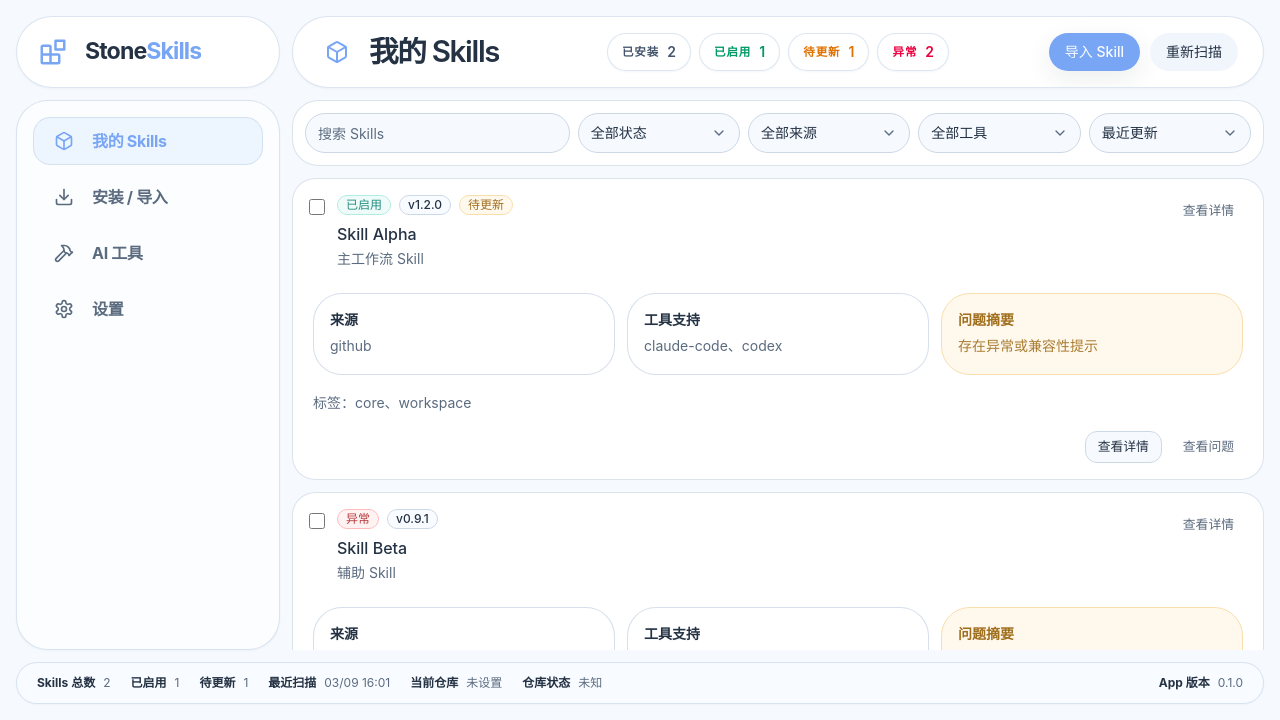
Test: SkillsPage › 点击卡片主体会打开详情抽屉
Click the button with test id "skill-card-trigger-skill-alpha" at (778, 354), box [309,289,1247,419]
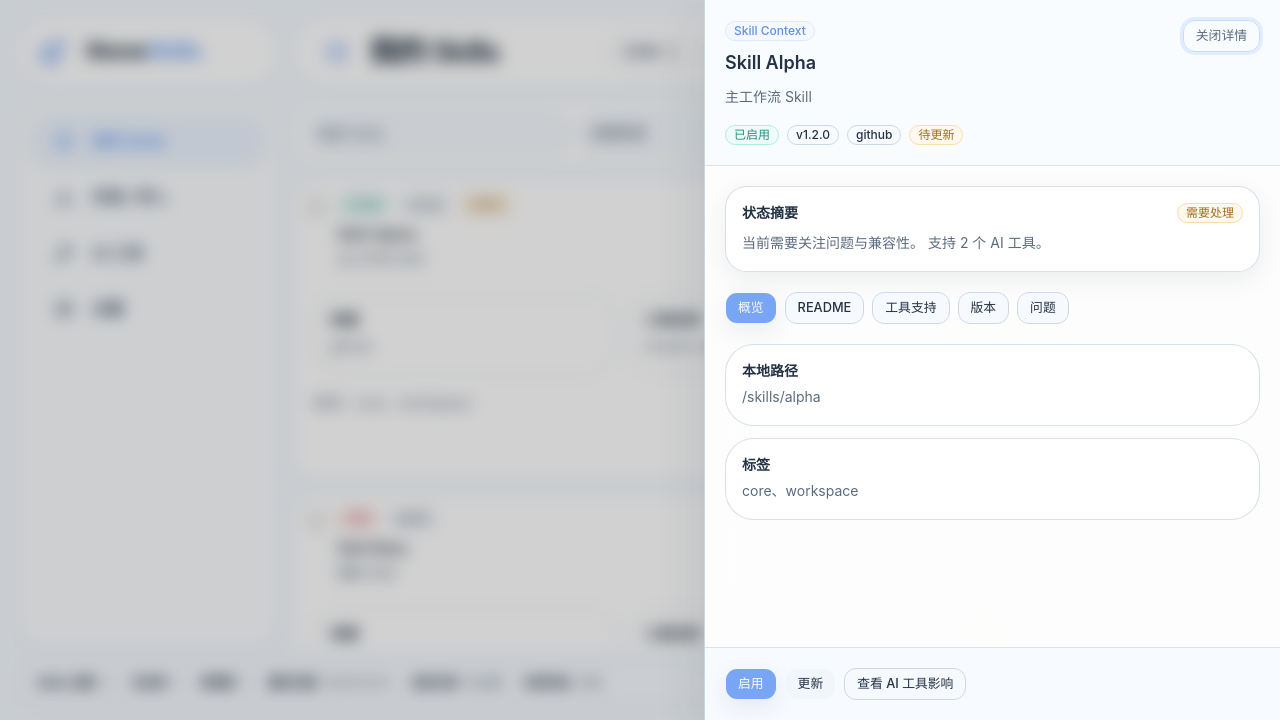
Expected: the dialog "Skill Alpha" is shown, [704,0,1279,719]
